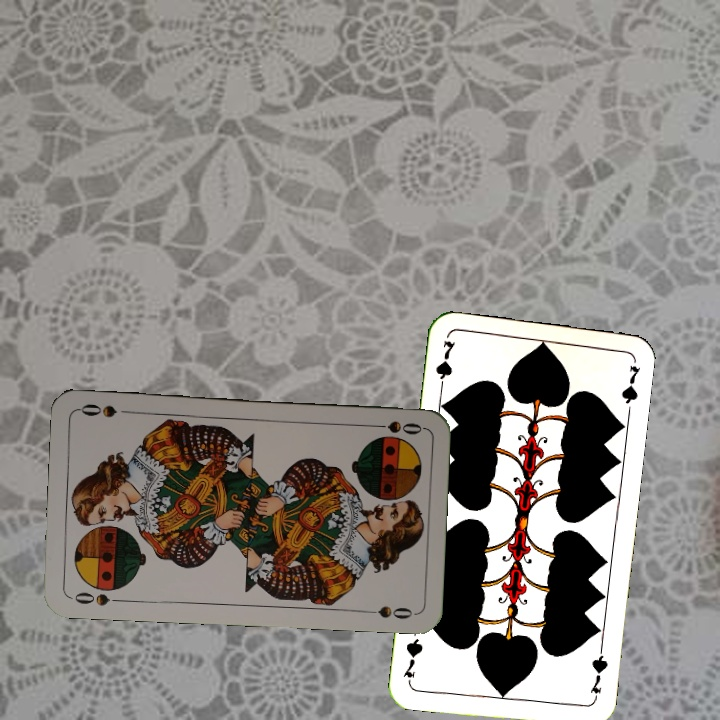G7: (432, 336, 458, 395), (586, 645, 610, 704)
SO: (365, 417, 425, 437), (67, 588, 126, 608)
